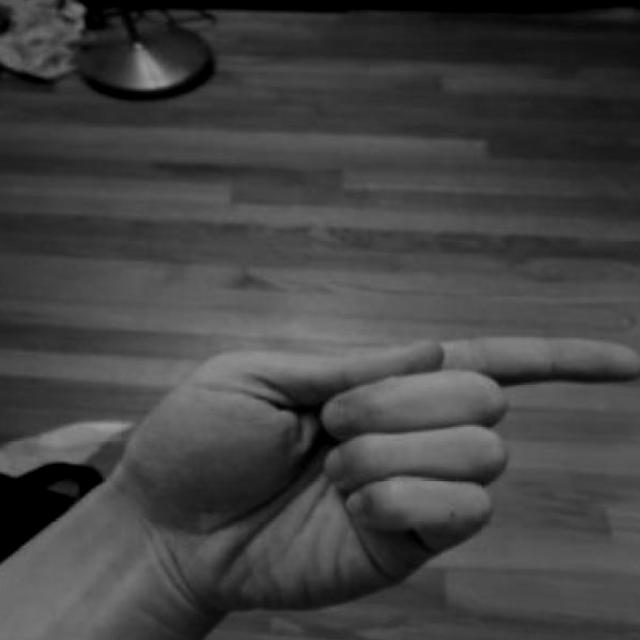G: (110, 318, 640, 636)
